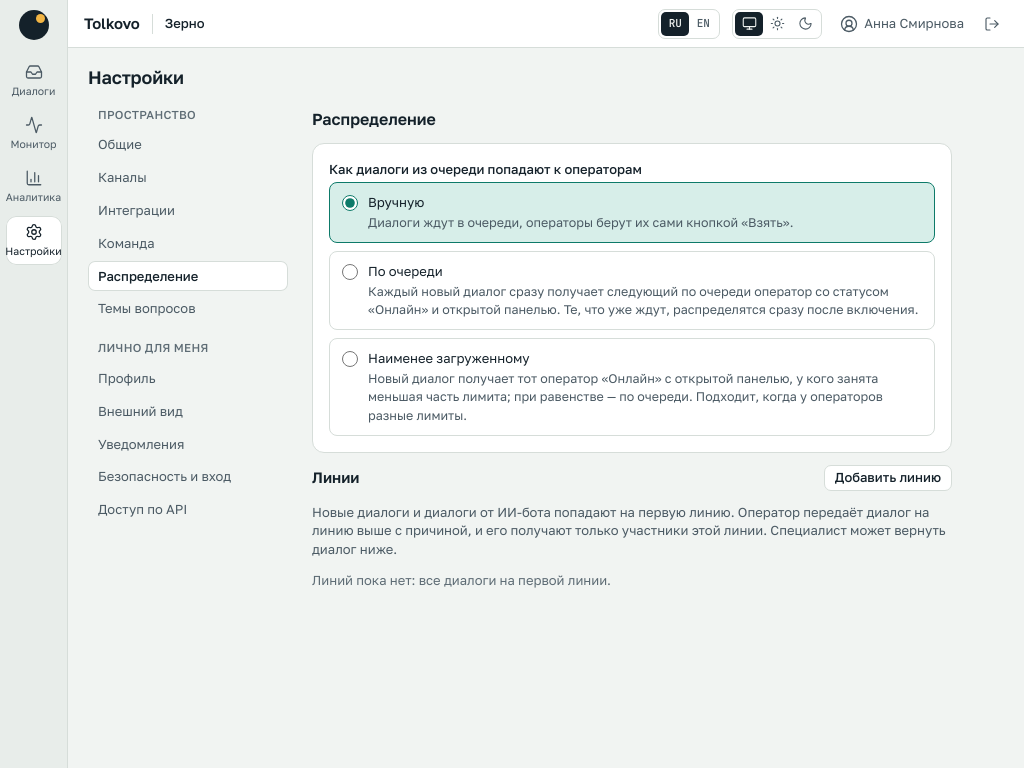
Test case: routing settings › explains a refusal
Click the radio button labelled "По очереди": (350, 272) [342,264,358,280]
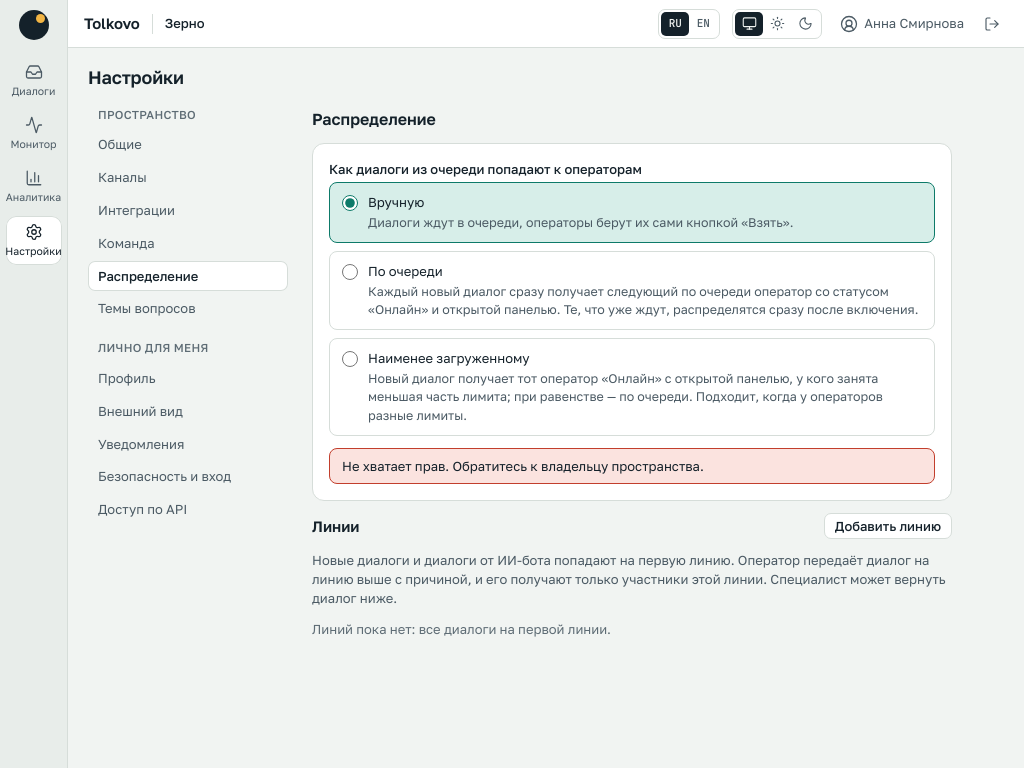
Now the message shows "Не хватает прав", box [342,458,704,474]
